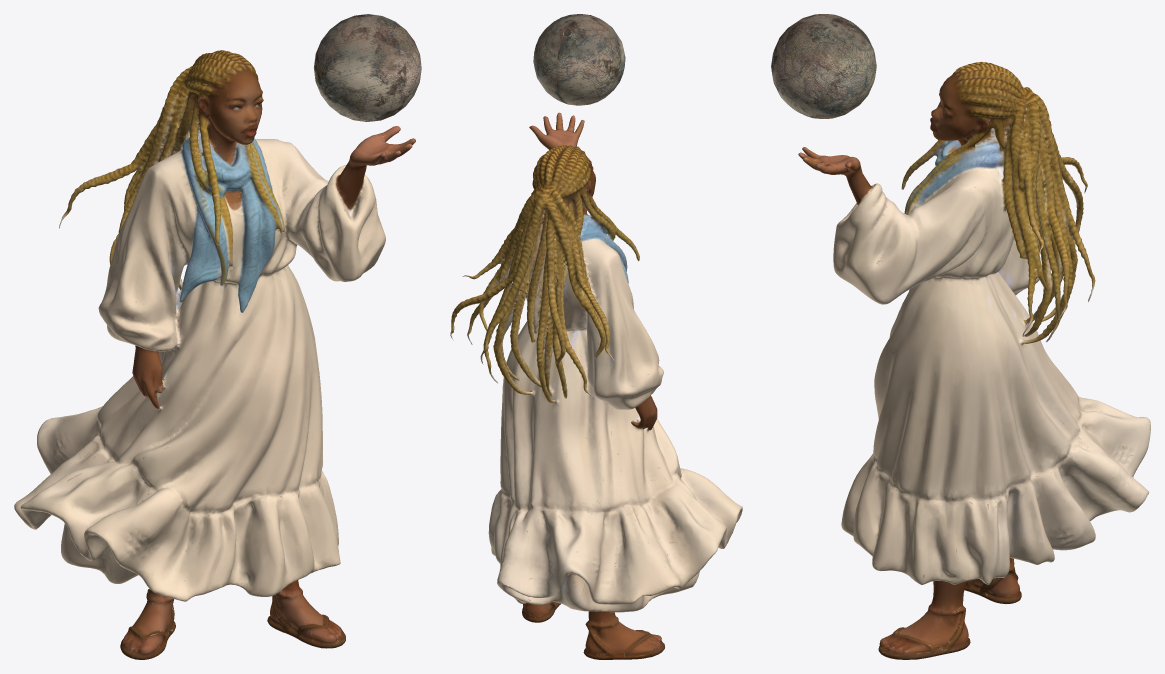
Rendered from scholar+.glb.
3 renders of one model, left to right at view 1: azimuth 30°, elevation 25°; view 2: azimuth 150°, elevation 25°; view 3: azimuth 270°, elevation 25°, orthographic. The views are drawn at different scales.
Visible parts, largest first — view 1: Mesh1.0, Object_3.001; view 2: Mesh1.0, Object_3.001; view 3: Mesh1.0, Object_3.001.
Part boxes in pixels (bbox=[...]): Mesh1.0: bbox=[14, 50, 415, 659]; Object_3.001: bbox=[313, 14, 421, 121]; Mesh1.0: bbox=[450, 112, 742, 659]; Object_3.001: bbox=[533, 14, 625, 105]; Mesh1.0: bbox=[798, 61, 1150, 659]; Object_3.001: bbox=[771, 14, 876, 118].
Bounding box in the file's own units: 1.05 × 2.18 × 1.18.
Materials: 2 (2 with a texture image).
